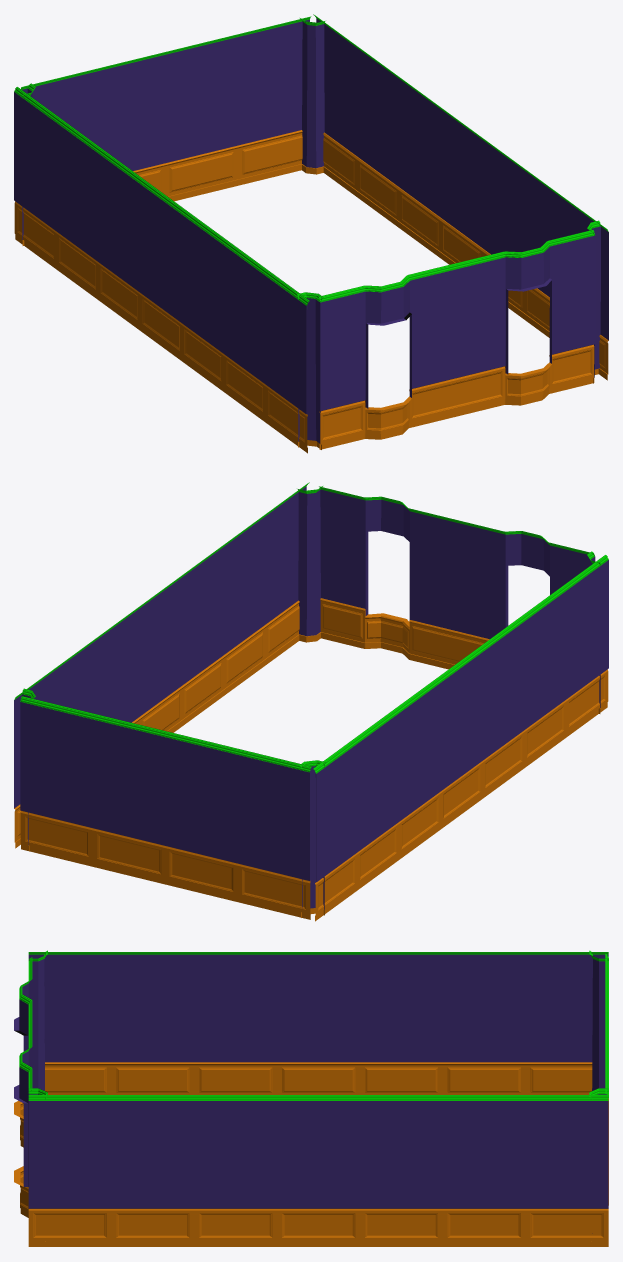
Rendered from SM_Office_001.fbx.
3 views of the same model, one above another, from view 1: azimuth 30°, elevation 25°; view 2: azimuth 150°, elevation 25°; view 3: azimuth 270°, elevation 25° (orthographic).
Parts seen in each view (by area): view 1: Walls_001; view 2: Walls_001; view 3: Walls_001.
Boxes of the visible parts, x1,y1,x2,y2 form: Walls_001: (14, 14, 608, 453); Walls_001: (14, 482, 608, 921); Walls_001: (14, 950, 608, 1246).
Size of the model in its own units: 711 by 343 by 1223.
